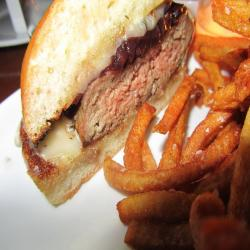burger: (23, 1, 183, 193)
fries: (130, 92, 250, 249)
